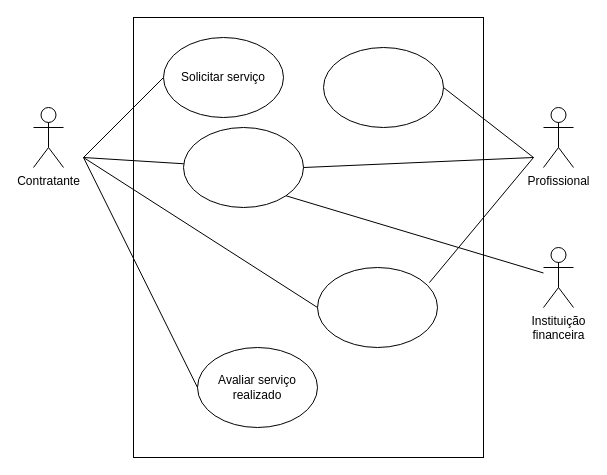
The diagram is 607 pixels wide and 475 high, and some of its shapes have lost their labels. Each missing label, with the centre of its shape:
"Aceitar proposta de serviço" belongs at point 243,167.
"Confirmar finalização do serviço" belongs at point 377,307.
"Enviar proposta de serviço" belongs at point 383,87.
